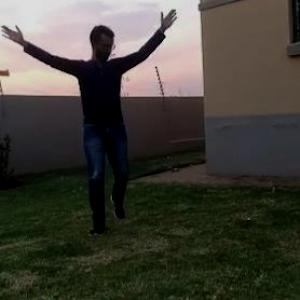takeoff: (0, 0, 180, 239)
